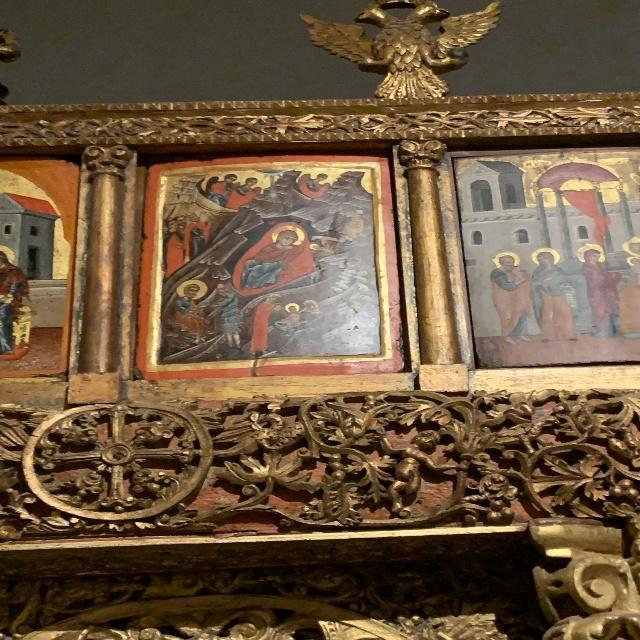angel: (201, 173, 242, 203), (229, 178, 262, 209), (297, 173, 331, 201)
aura: (270, 225, 304, 248), (177, 279, 206, 300), (284, 302, 299, 312)
christ_kid: (282, 304, 299, 330)
mary: (241, 222, 327, 290)
saint: (173, 279, 210, 338)
wing: (205, 176, 221, 196), (296, 173, 313, 190), (229, 182, 244, 198), (255, 186, 261, 196)
